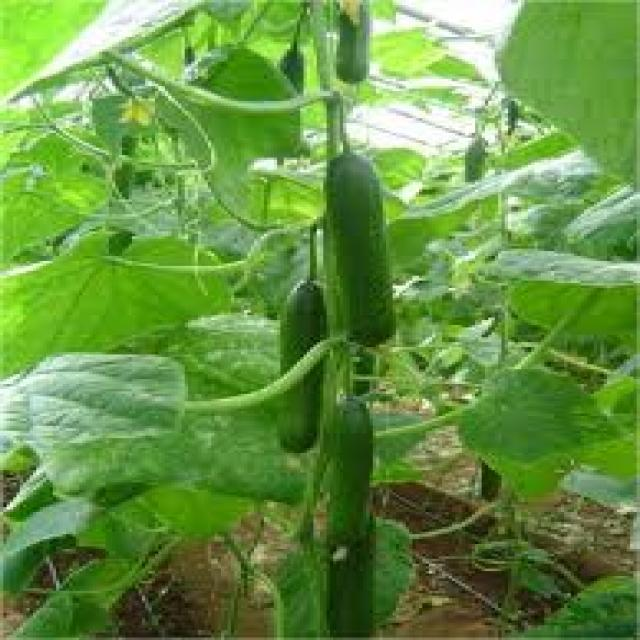organic waste: (495, 0, 637, 194), (0, 352, 181, 448), (495, 248, 637, 344), (324, 150, 389, 342), (327, 394, 372, 637), (274, 278, 330, 460), (102, 113, 126, 261), (333, 0, 363, 79), (277, 47, 297, 143), (475, 448, 501, 510), (181, 44, 198, 76)
